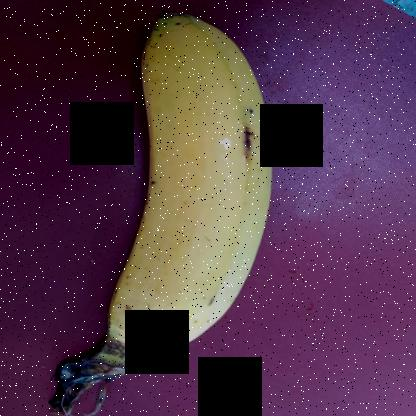freshripe: (81, 0, 315, 356)
